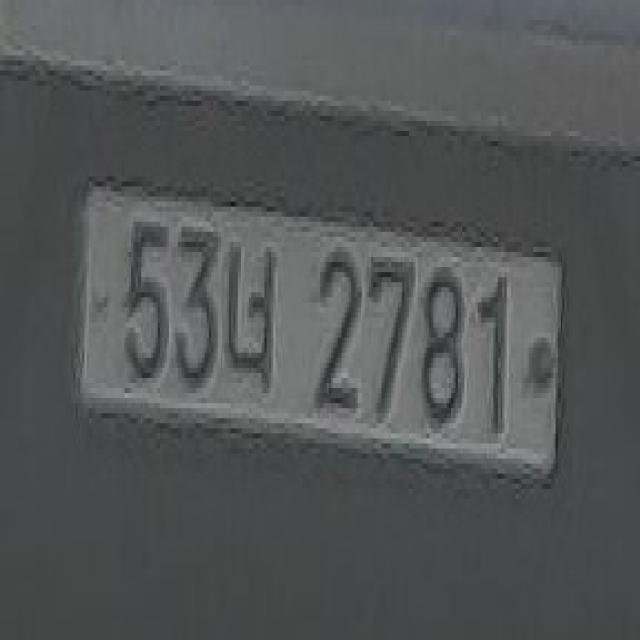1: (471, 262, 518, 449)
2: (314, 237, 362, 423)
3: (173, 212, 224, 393)
5: (120, 212, 173, 398)
7: (362, 257, 418, 423)
8: (416, 237, 474, 423)
license_plate: (71, 166, 569, 509)
neo: (218, 212, 284, 413)
